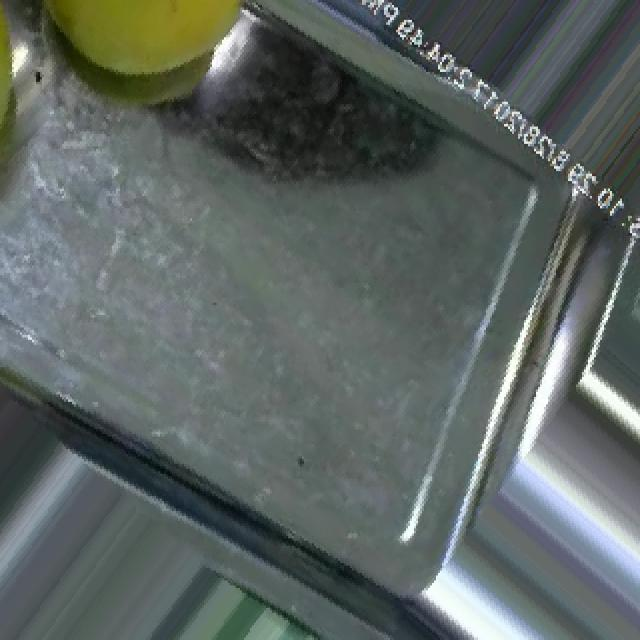fruit: (12, 0, 272, 129), (0, 0, 64, 258)
